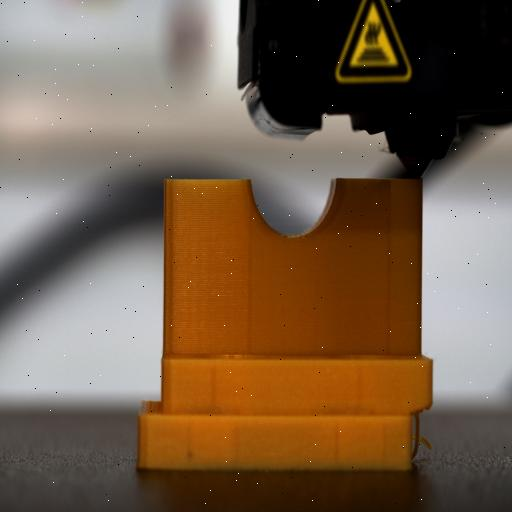layer_shift: (137, 392, 435, 424)
